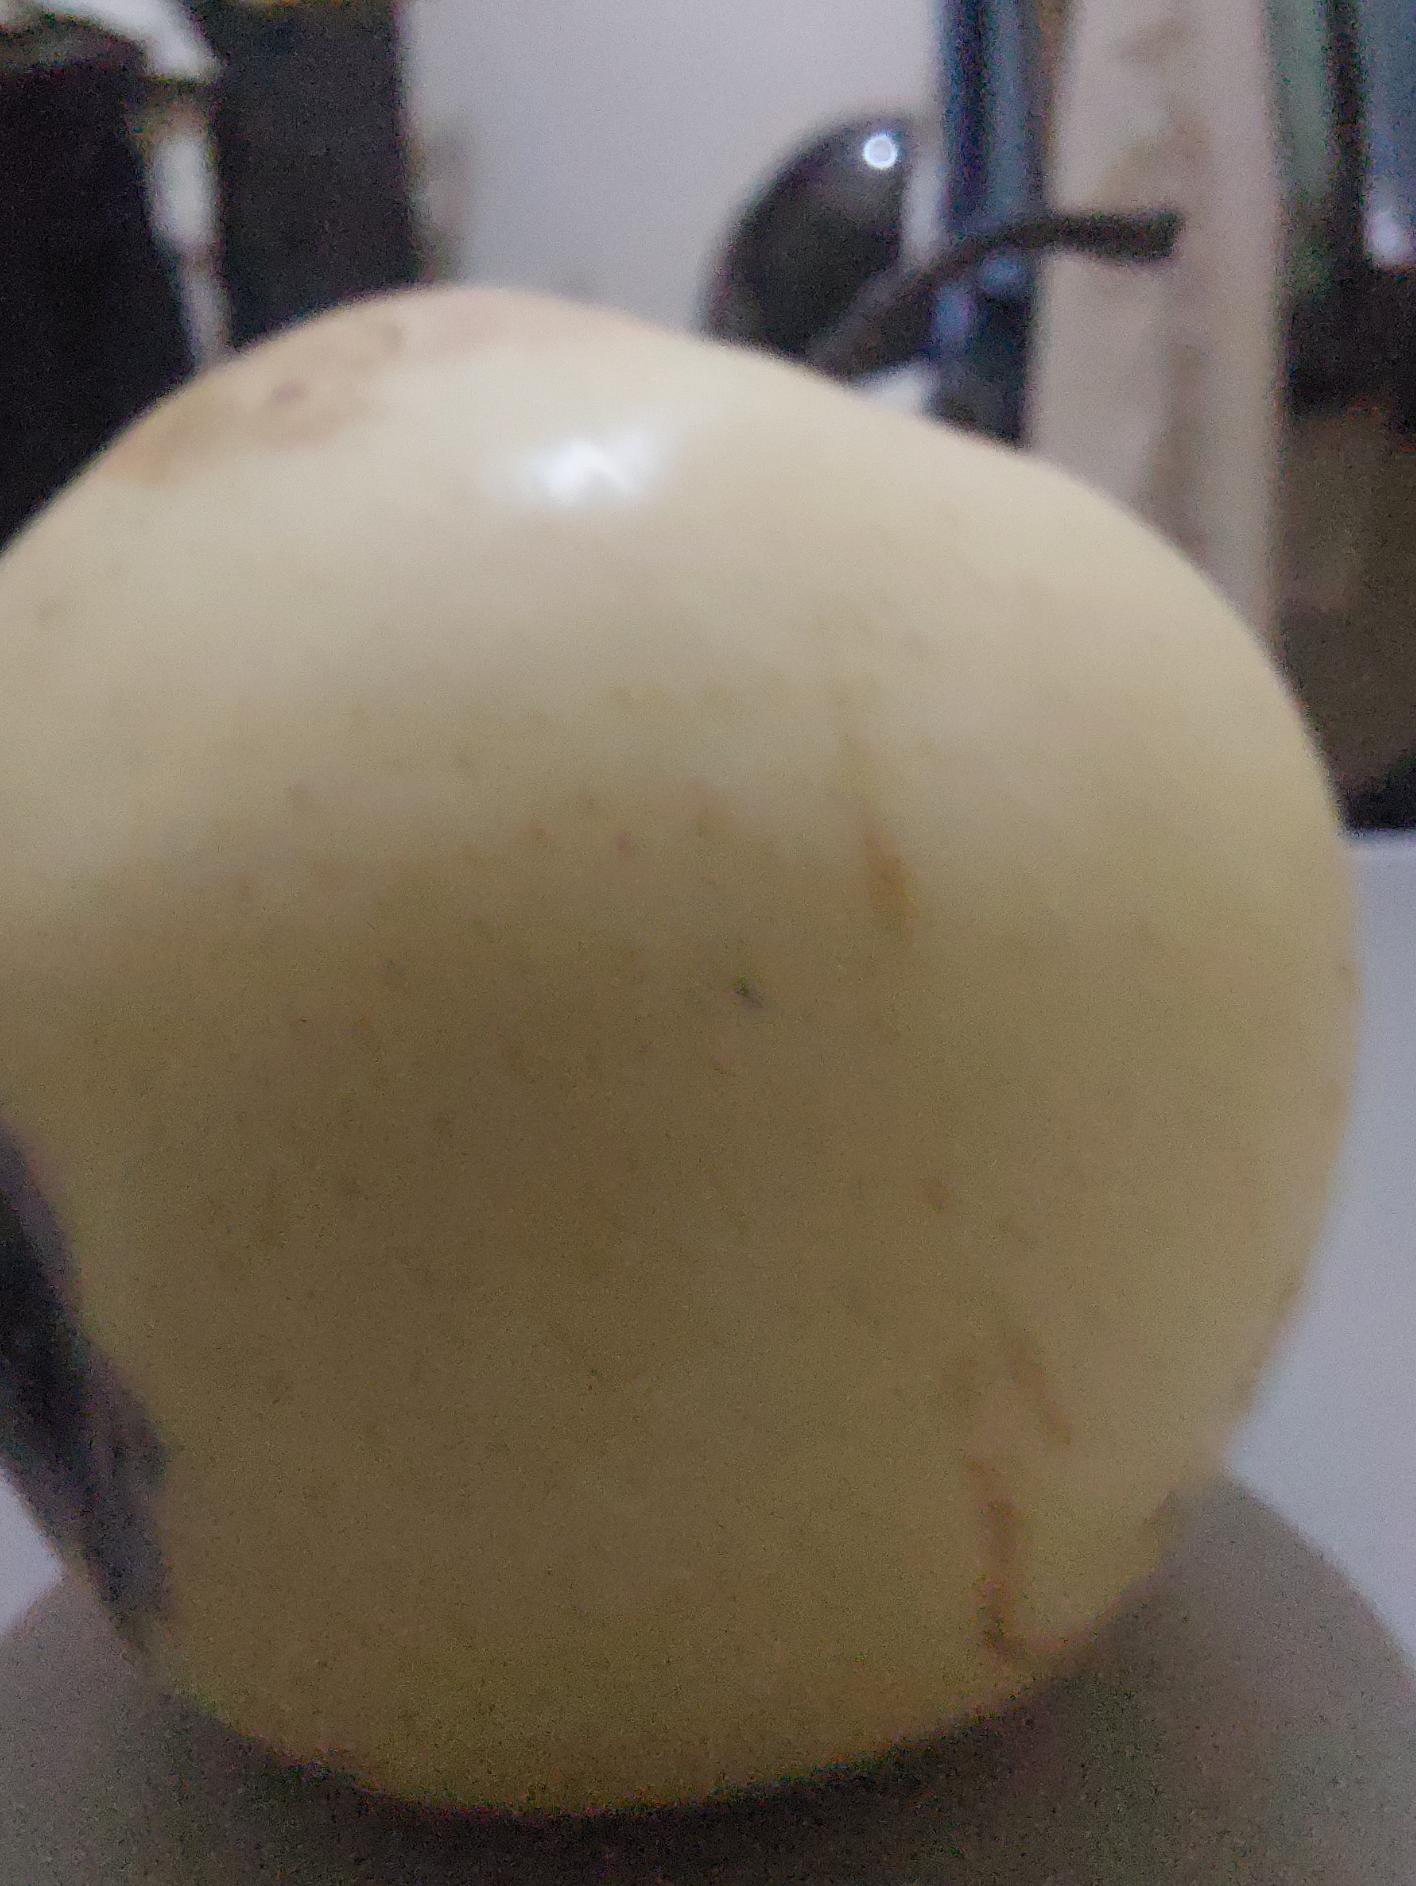Bad Pear: (0, 277, 1365, 1841)
